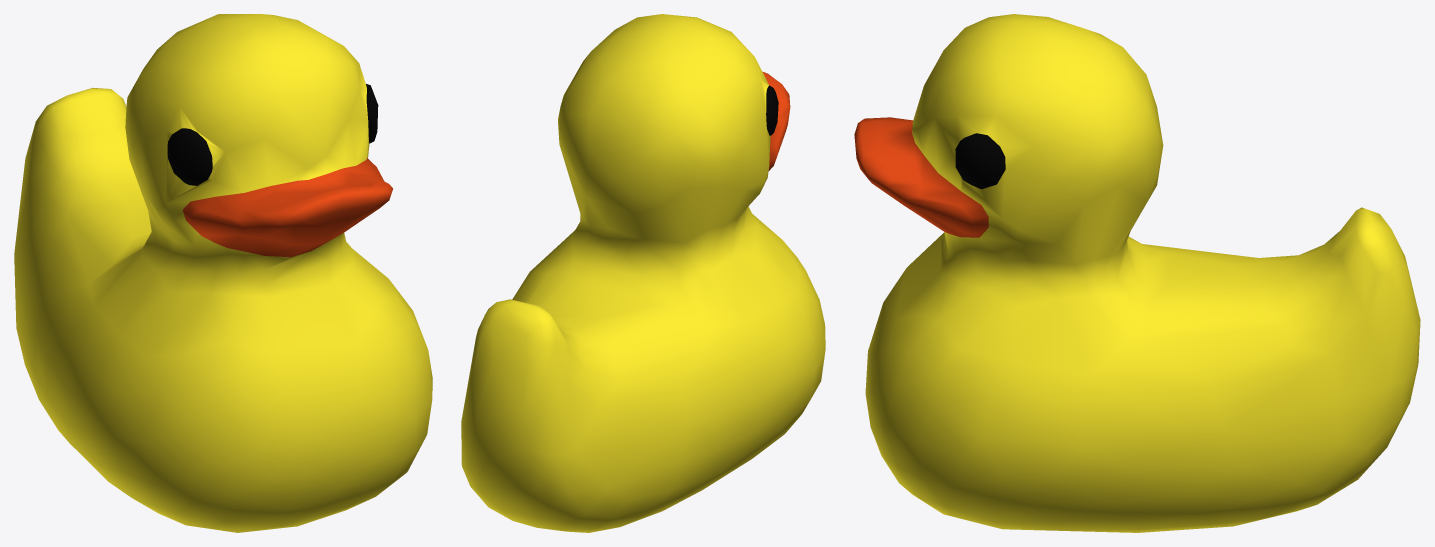
Rendered from simpleDuck2.glb.
3 views of the same model, side by side, from view 1: azimuth 30°, elevation 25°; view 2: azimuth 150°, elevation 25°; view 3: azimuth 270°, elevation 25° (orthographic). The views are drawn at different scales.
Visible parts, largest first — view 1: Cube.001; view 2: Cube.001; view 3: Cube.001.
Boxes of the visible parts, bbox=[...] form: Cube.001: bbox=[14, 14, 432, 532]; Cube.001: bbox=[461, 14, 825, 532]; Cube.001: bbox=[854, 14, 1420, 532].
Bounding box in the file's own units: 2.57 × 3.88 × 4.12.
